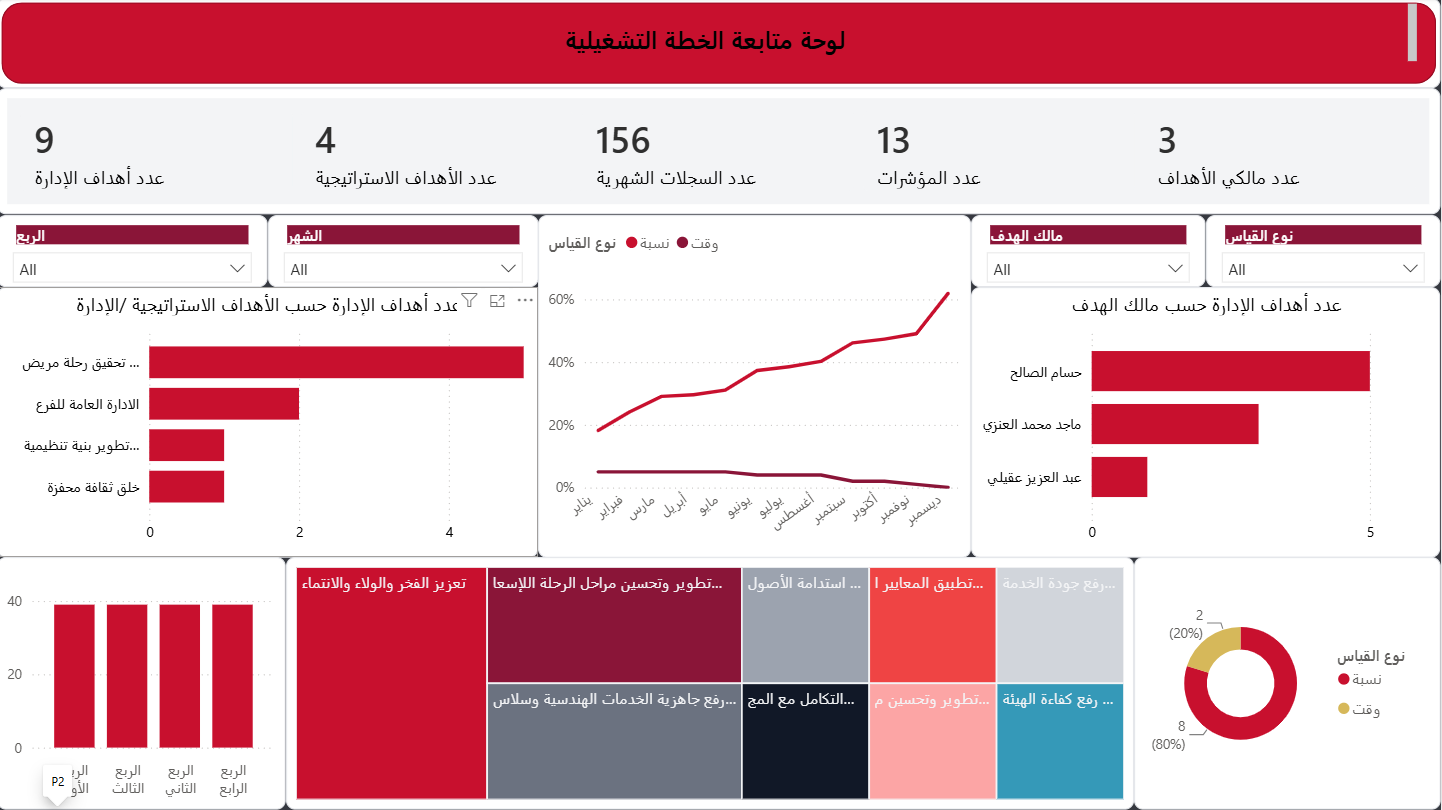

The dashboard page shown, as its layout file describes it:
{"tool":"powerbi","page":{"name":"P2","canvas":[1280,720],"ordinal":0},"visuals":[{"type":"shape","box":[0,0,1280,80],"z":0},{"type":"textbox","box":[0,0,1264,80],"z":1000},{"type":"cardVisual","fields":{"Data":["FACT_TBL.عدد أهداف الإدارة","FACT_TBL.عدد الأهداف الاستراتيجية","FACT_TBL.عدد السجلات الشهرية","FACT_TBL.عدد المؤشرات","Bridge.عدد مالكي الأهداف"]},"box":[0,80,1280,112],"z":2000},{"type":"slicer","fields":{"Values":["FACT_TBL.الربع"]},"box":[0,192,240,64],"z":3000},{"type":"slicer","fields":{"Values":["FACT_TBL.الشهر"]},"box":[240,192,240,64],"z":4000},{"type":"slicer","fields":{"Values":["Bridge.مالك الهدف"]},"box":[864,192,208,64],"z":5000},{"type":"slicer","fields":{"Values":["FACT_TBL.نوع القياس"]},"box":[1072,192,208,64],"z":6000},{"type":"clusteredBarChart","title":"عدد أهداف الإدارة حسب الأهداف الاستراتيجية /الإدارة","fields":{"Category":["FACT_TBL.الأهداف الاستراتيجية /الإدارة"],"Y":["FACT_TBL.عدد أهداف الإدارة"]},"box":[0,256,480,240],"z":7000},{"type":"clusteredBarChart","title":"عدد أهداف الإدارة حسب مالك الهدف","fields":{"Category":["Bridge.مالك الهدف"],"Y":["FACT_TBL.عدد أهداف الإدارة"]},"box":[864,256,416,240],"z":8000},{"type":"donutChart","fields":{"Category":["FACT_TBL.نوع القياس"],"Y":["FACT_TBL.عدد أهداف الإدارة"]},"box":[1008,496,272,224],"z":9000},{"type":"columnChart","fields":{"Category":["FACT_TBL.الربع"],"Y":["FACT_TBL.عدد السجلات الشهرية"]},"box":[0,496,256,224],"z":10000},{"type":"treemap","fields":{"Group":["FACT_TBL.أهداف الإدارة"],"Values":["FACT_TBL.عدد المؤشرات"]},"box":[256,496,752,224],"z":11000},{"type":"lineChart","fields":{"Category":["FACT_TBL.الشهر"],"Y":["Avg(FACT_TBL.النسب المخططة)"],"Series":["FACT_TBL.نوع القياس"]},"box":[480,192,384,304],"z":12000}]}

Visuals, with their boxes in screenshot pixels (x1, y1, x2, y2), scaled from the page's 1280x720 canvas onto the 1442x810 screenshot:
shape: <bbox>0, 0, 1441, 90</bbox>
textbox: <bbox>0, 0, 1424, 90</bbox>
cardVisual - FACT_TBL.عدد أهداف الإدارة x FACT_TBL.عدد الأهداف الاستراتيجية: <bbox>0, 90, 1441, 216</bbox>
slicer - FACT_TBL.الربع: <bbox>0, 216, 270, 288</bbox>
slicer - FACT_TBL.الشهر: <bbox>270, 216, 541, 288</bbox>
slicer - Bridge.مالك الهدف: <bbox>973, 216, 1208, 288</bbox>
slicer - FACT_TBL.نوع القياس: <bbox>1208, 216, 1441, 288</bbox>
"عدد أهداف الإدارة حسب الأهداف الاستراتيجية /الإدارة" clusteredBarChart: <bbox>0, 288, 541, 558</bbox>
"عدد أهداف الإدارة حسب مالك الهدف" clusteredBarChart: <bbox>973, 288, 1441, 558</bbox>
donutChart - FACT_TBL.نوع القياس x FACT_TBL.عدد أهداف الإدارة: <bbox>1136, 558, 1441, 809</bbox>
columnChart - FACT_TBL.الربع x FACT_TBL.عدد السجلات الشهرية: <bbox>0, 558, 288, 809</bbox>
treemap - FACT_TBL.أهداف الإدارة x FACT_TBL.عدد المؤشرات: <bbox>288, 558, 1136, 809</bbox>
lineChart - FACT_TBL.الشهر x Avg(FACT_TBL.النسب المخططة): <bbox>541, 216, 973, 558</bbox>
